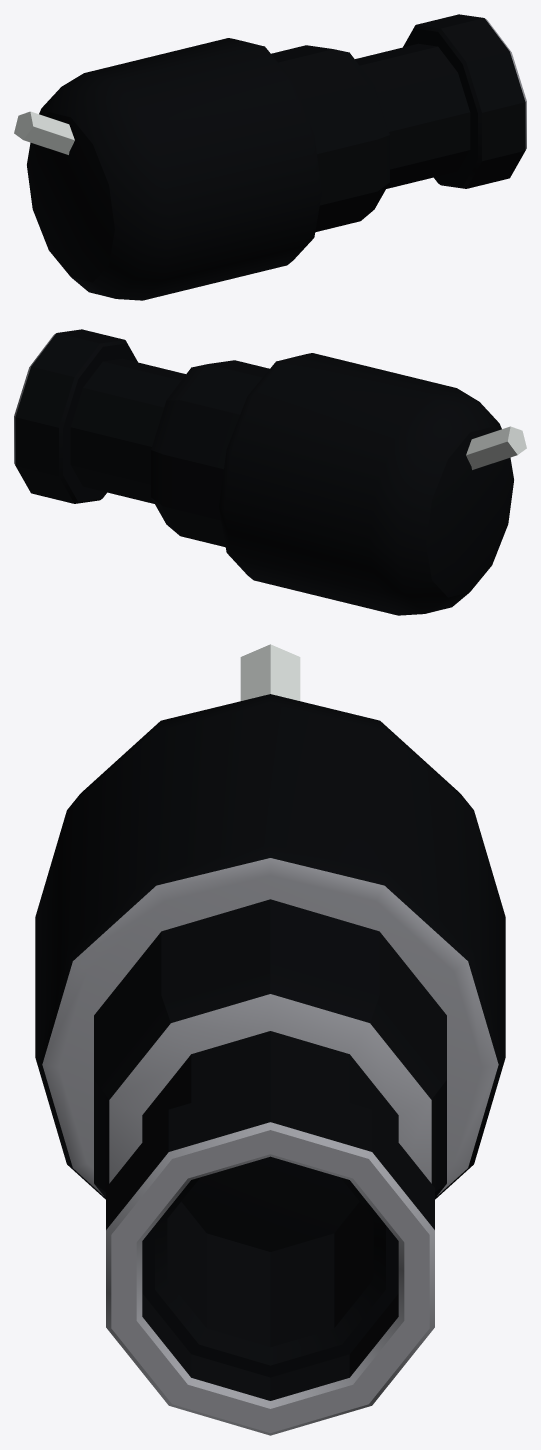
File: cannon gastado.fbx
3 views of the same model, one above another, from view 1: azimuth 30°, elevation 25°; view 2: azimuth 150°, elevation 25°; view 3: azimuth 270°, elevation 25° (orthographic). The views are drawn at different scales.
Parts seen in each view (by area): view 1: pCylinder5; view 2: pCylinder5; view 3: pCylinder5.
Part boxes in pixels (x1,y1,x2,y2): pCylinder5: [14, 14, 526, 300]; pCylinder5: [14, 329, 526, 615]; pCylinder5: [35, 644, 505, 1435].
Size of the model in its own units: 4.6 by 2 by 2.
